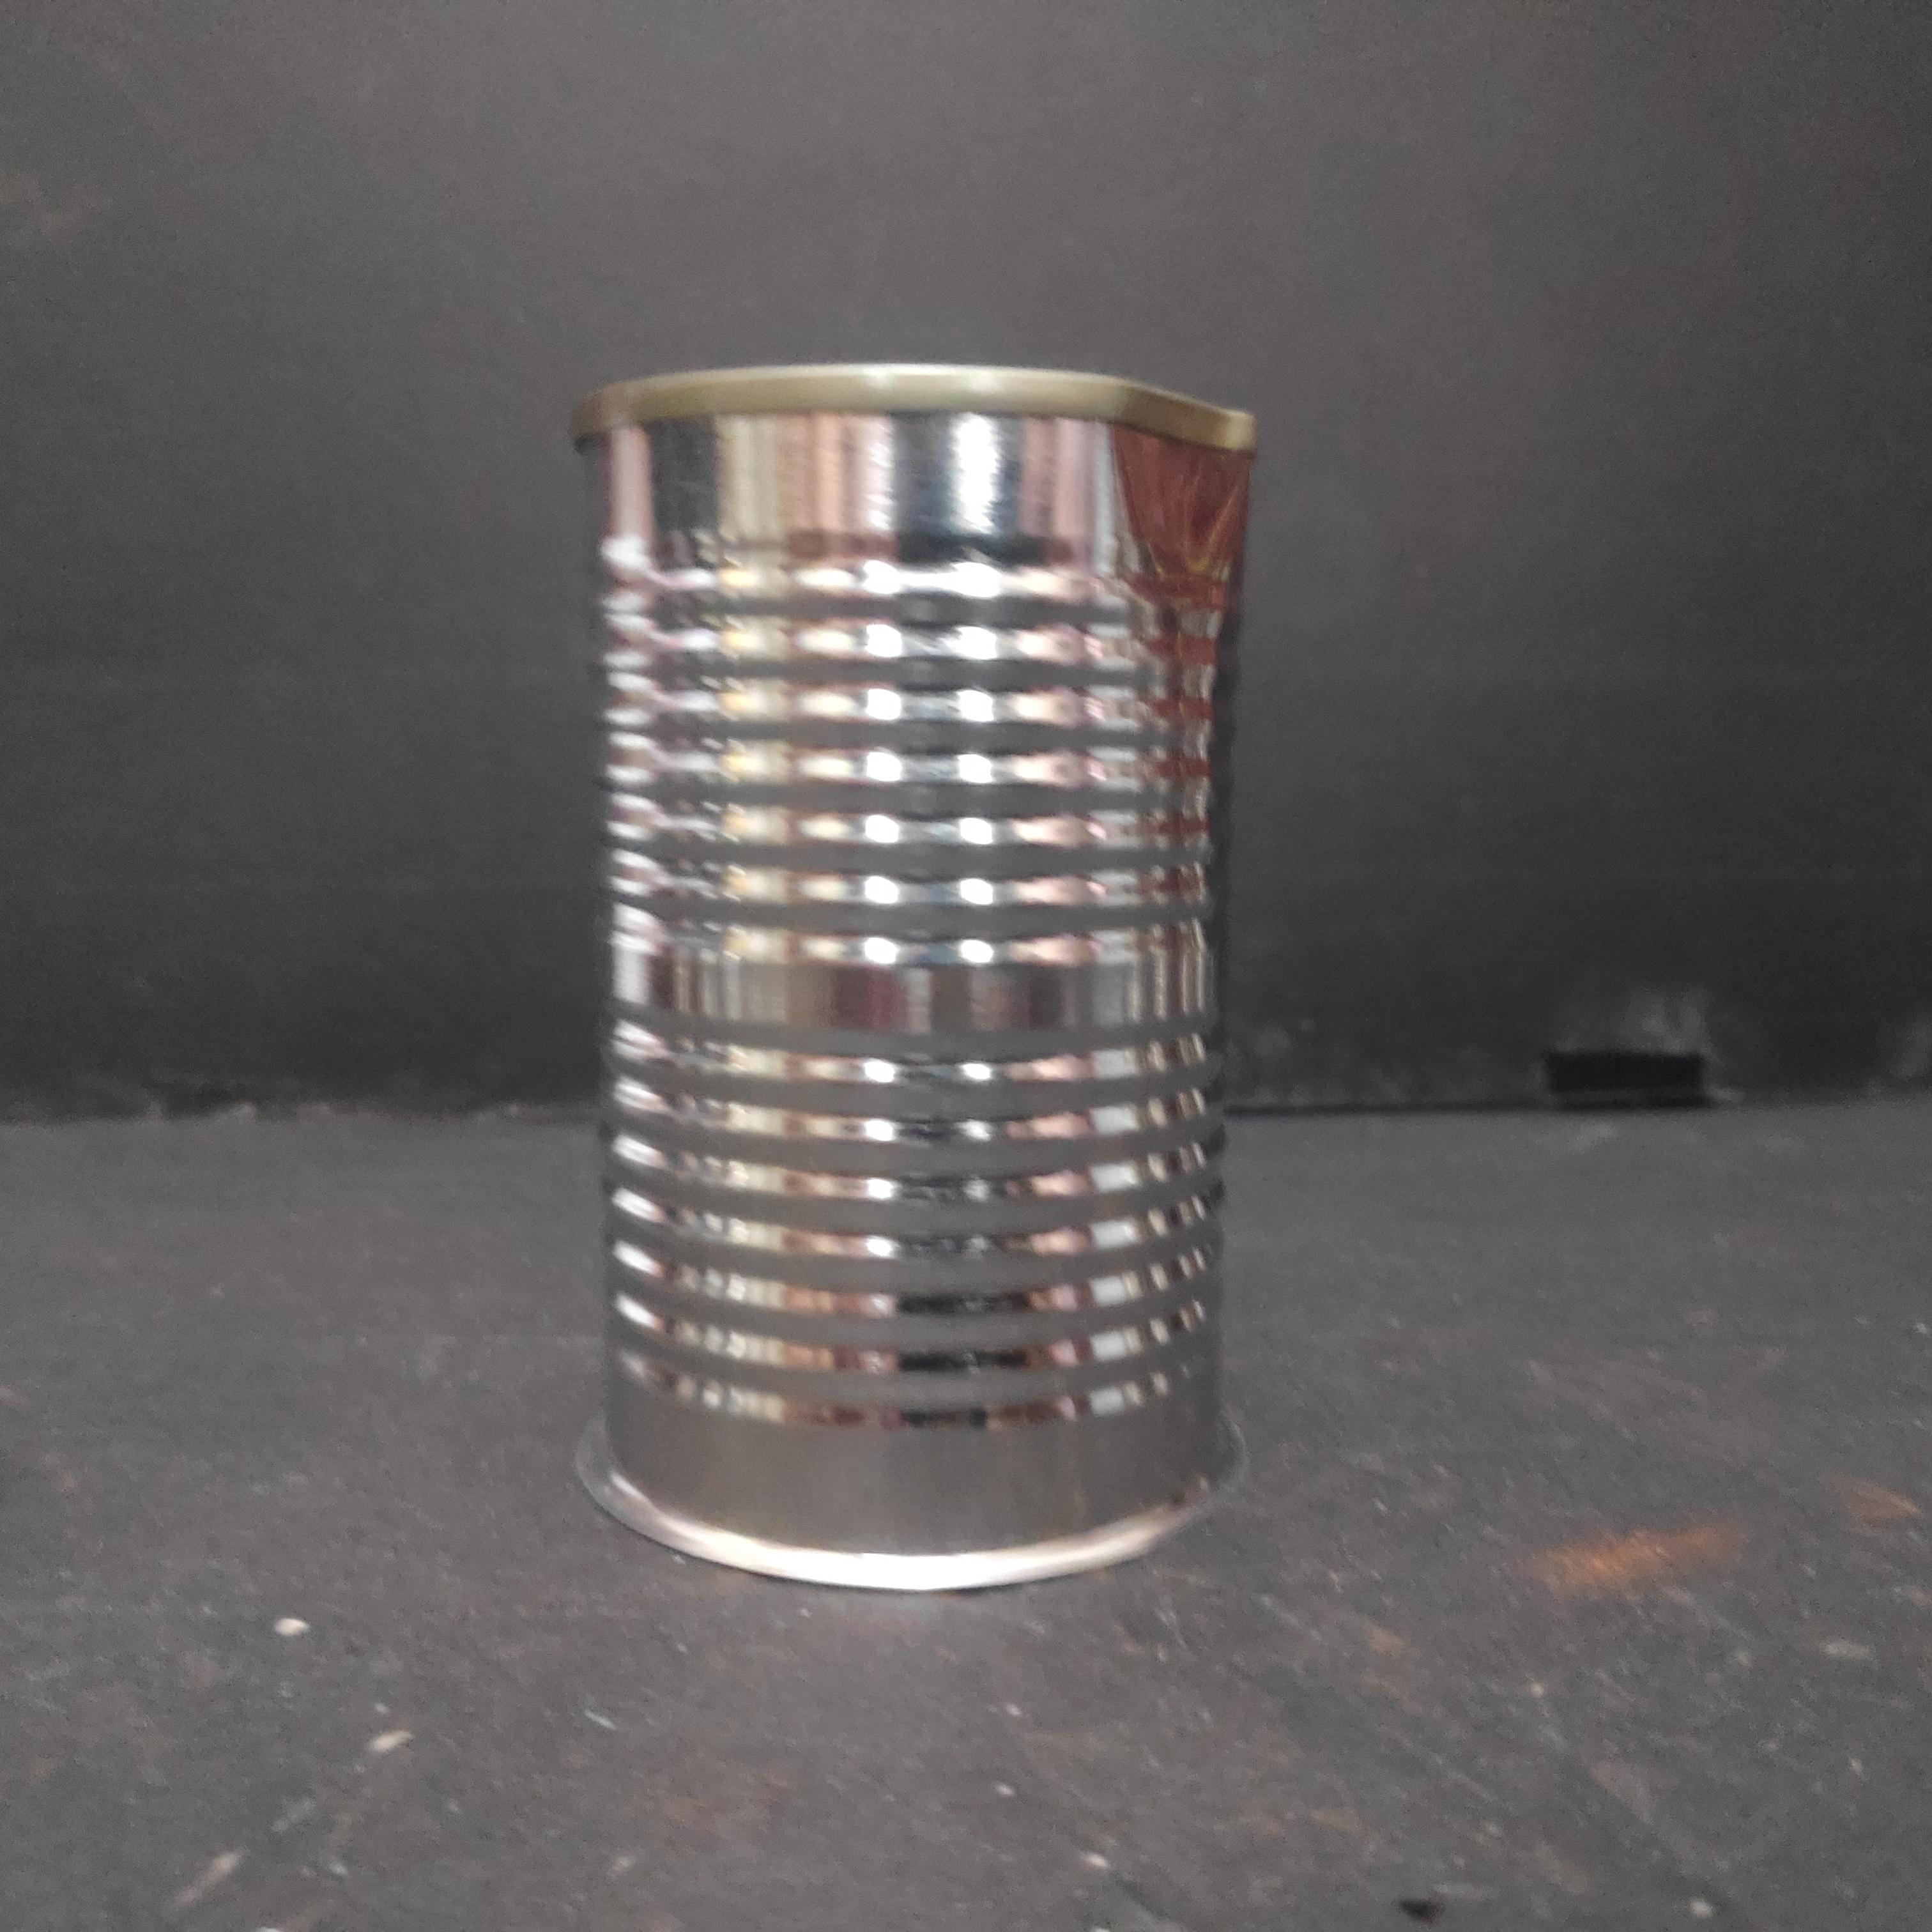Minor Defect: (570, 359, 1267, 1605)
